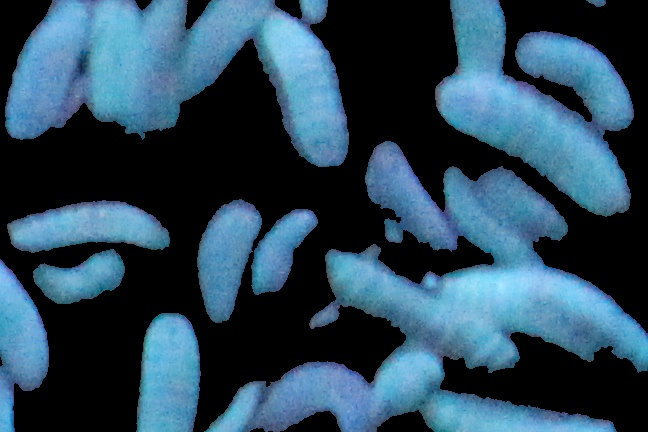larvae: (437, 69, 632, 212), (325, 250, 518, 369), (446, 267, 648, 370), (256, 1, 348, 166), (361, 142, 463, 273), (514, 30, 636, 136), (5, 1, 87, 142), (171, 1, 276, 100), (446, 167, 538, 267), (195, 198, 264, 325), (8, 202, 176, 254), (426, 389, 616, 432), (1, 245, 54, 395), (265, 362, 372, 431), (140, 313, 201, 432), (130, 1, 183, 136), (478, 159, 568, 238), (250, 208, 319, 295), (369, 347, 442, 428), (32, 249, 128, 308), (86, 1, 134, 118), (444, 1, 503, 83)
